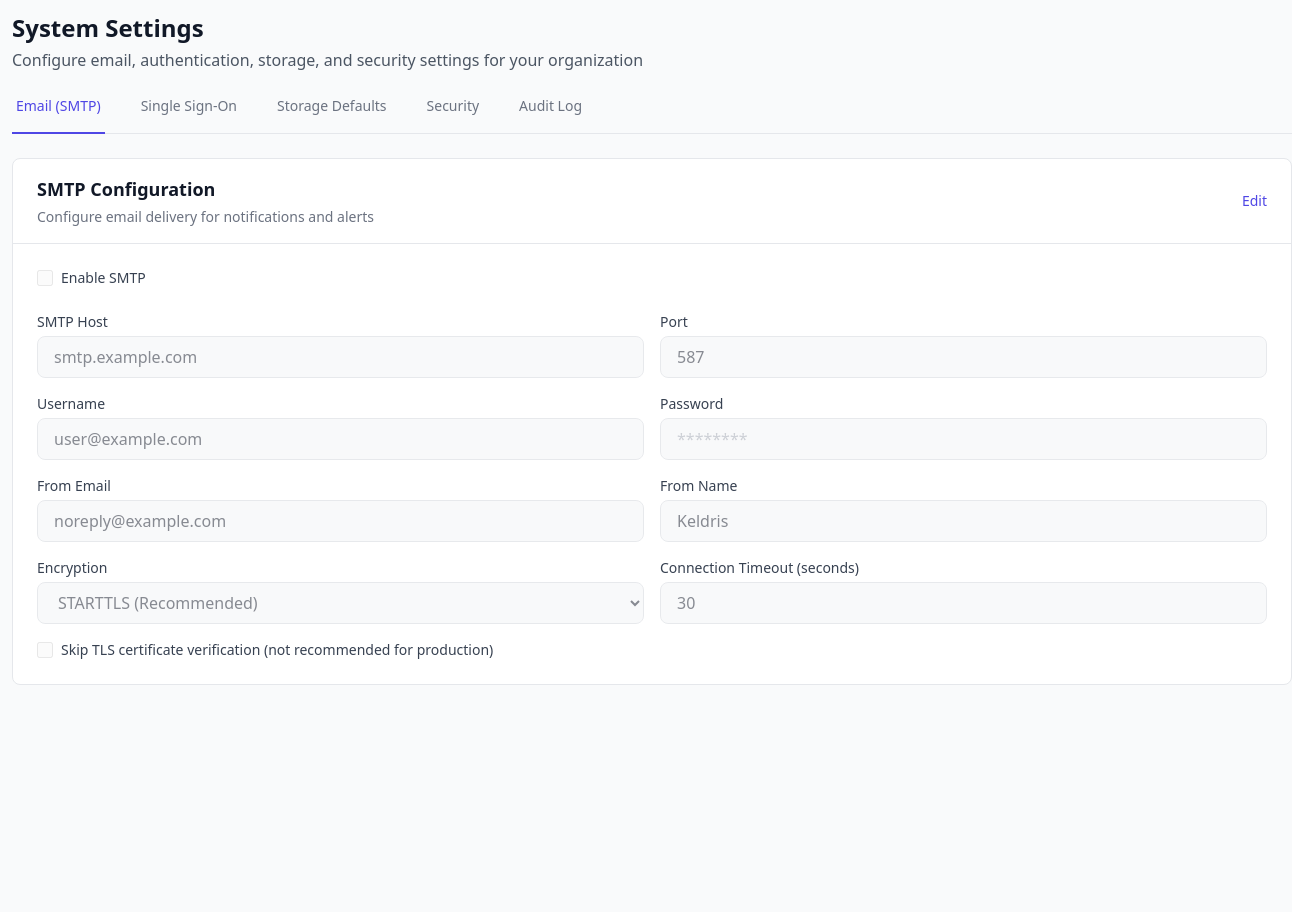
Test: SystemSettings page › tab rendering › switches to Storage tab on click
Click the button "Storage Defaults". click: point(332, 115)
box: top-left (273, 96), bottom-right (390, 134)
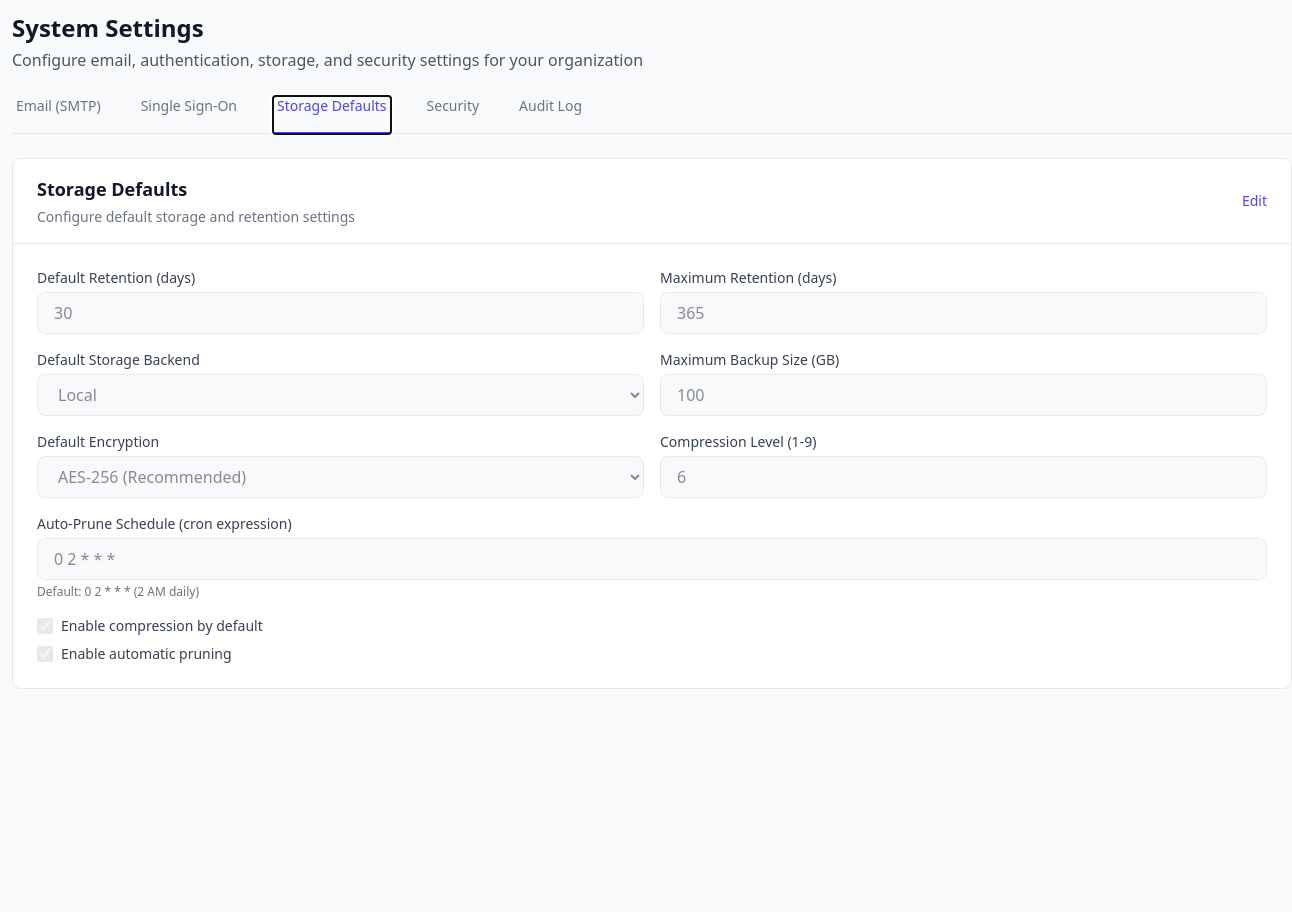
Expected: the text "Configure default storage and retention settings" is shown, top-left (37, 207), bottom-right (355, 227)
